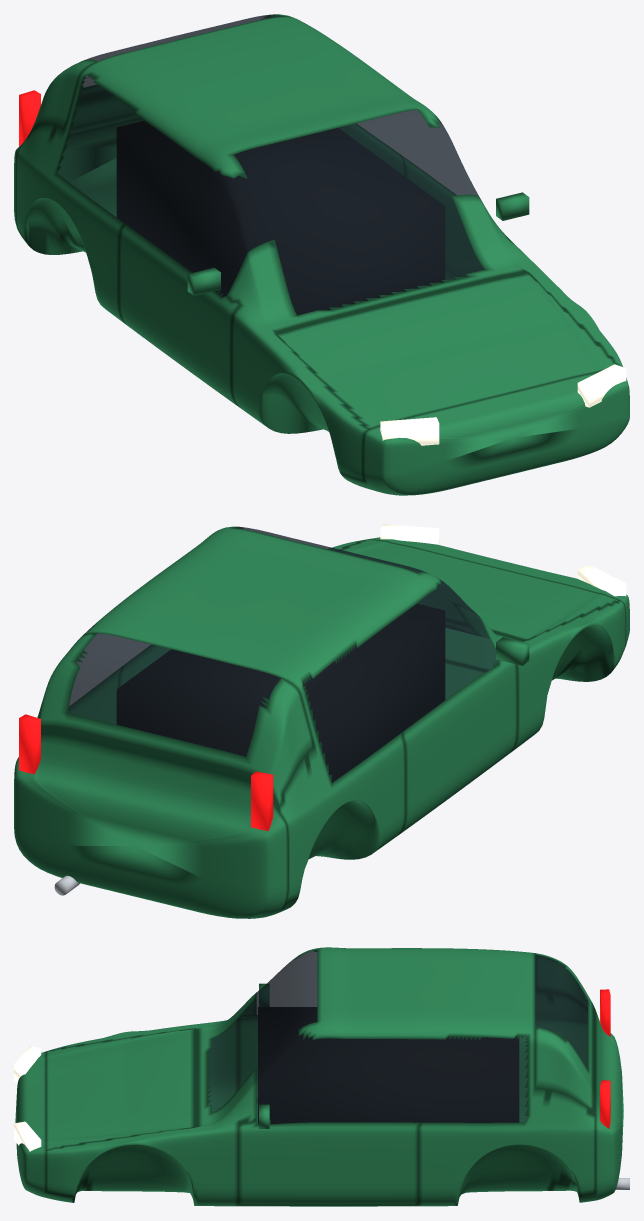
Rendered from hatch.glb.
3 views of the same model, one above another, from view 1: azimuth 30°, elevation 25°; view 2: azimuth 150°, elevation 25°; view 3: azimuth 270°, elevation 25° (orthographic). The views are drawn at different scales.
Parts seen in each view (by area): view 1: body, interior, glass_front, hood, glass_R, bumper_F, door_FR, bumper_R, glass_L, door_FL, trunk, light_FR (+5 smaller); view 2: body, bumper_R, interior, glass_R, glass_rear, door_FR, hood, trunk, bumper_F, glass_L, glass_front, light_RR (+5 smaller); view 3: body, interior, glass_L, door_FL, hood, glass_front, trunk, bumper_R, glass_rear, bumper_F, glass_R, door_FR (+4 smaller).
Part boxes in pixels (x1,y1,x2,y2): body: [16, 16, 622, 481]; interior: [116, 121, 445, 315]; glass_front: [234, 110, 484, 315]; hood: [275, 271, 618, 429]; glass_R: [57, 75, 274, 296]; bumper_F: [340, 371, 629, 495]; door_FR: [119, 223, 240, 407]; bumper_R: [14, 95, 143, 254]; glass_L: [357, 110, 480, 198]; door_FL: [401, 155, 512, 279]; trunk: [28, 14, 290, 136]; light_FR: [380, 417, 439, 445]; body: [41, 526, 625, 907]; bumper_R: [14, 734, 297, 918]; interior: [116, 604, 445, 782]; glass_R: [303, 580, 499, 782]; glass_rear: [68, 633, 280, 756]; door_FR: [398, 660, 517, 835]; hood: [338, 539, 619, 640]; trunk: [37, 633, 314, 805]; bumper_F: [368, 537, 629, 681]; glass_L: [69, 625, 150, 705]; glass_front: [234, 527, 478, 635]; light_RR: [251, 771, 273, 830]; body: [46, 947, 595, 1206]; interior: [258, 1007, 519, 1124]; glass_L: [256, 1030, 527, 1124]; door_FL: [238, 1119, 418, 1205]; hood: [46, 1028, 198, 1149]; glass_front: [207, 950, 317, 1112]; trunk: [535, 953, 592, 1114]; bumper_R: [549, 1010, 623, 1202]; glass_rear: [535, 955, 587, 1069]; bumper_F: [15, 1051, 89, 1202]; glass_R: [256, 951, 316, 1014]; door_FR: [238, 1014, 257, 1100].
Bounding box in the file's own units: 2.02 × 1.3 × 4.01.
